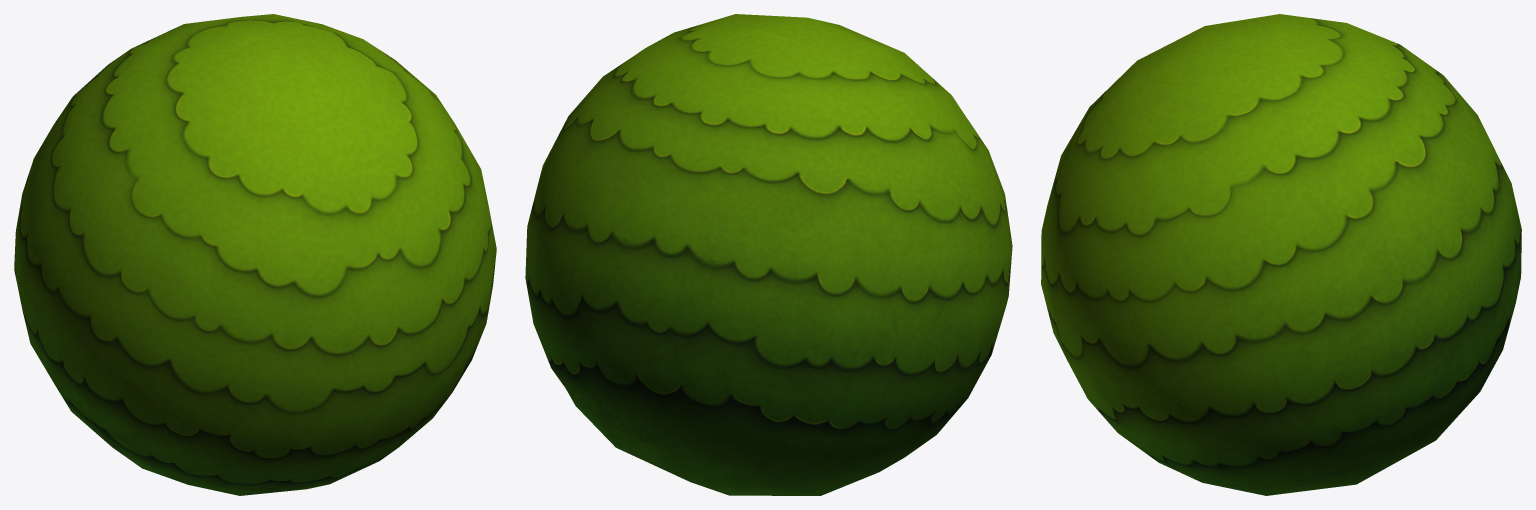
The model's file is bush ball.fbx.
3 views of the same model, side by side, from view 1: azimuth 30°, elevation 25°; view 2: azimuth 150°, elevation 25°; view 3: azimuth 270°, elevation 25° (orthographic).
Visible parts, largest first — view 1: bush ball; view 2: bush ball; view 3: bush ball.
Part boxes in pixels (box(x1,y1,x2,y2)): bush ball: box(14, 14, 496, 495); bush ball: box(525, 14, 1012, 495); bush ball: box(1041, 14, 1521, 495).
Size of the model in its own units: 103 by 103 by 102.
1 material, 1 textured.
